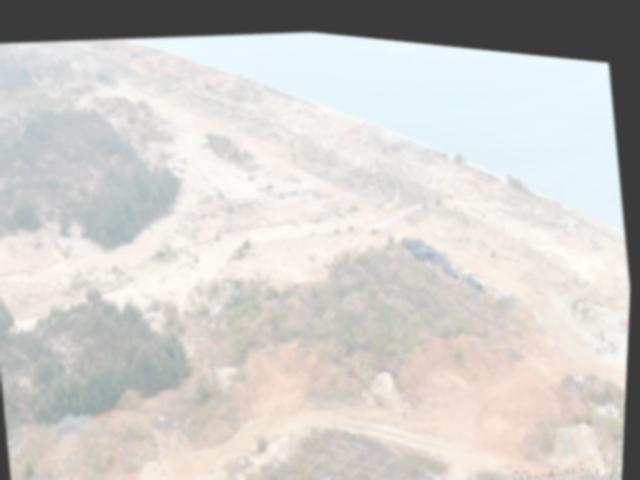plane: (366, 204, 399, 228)
